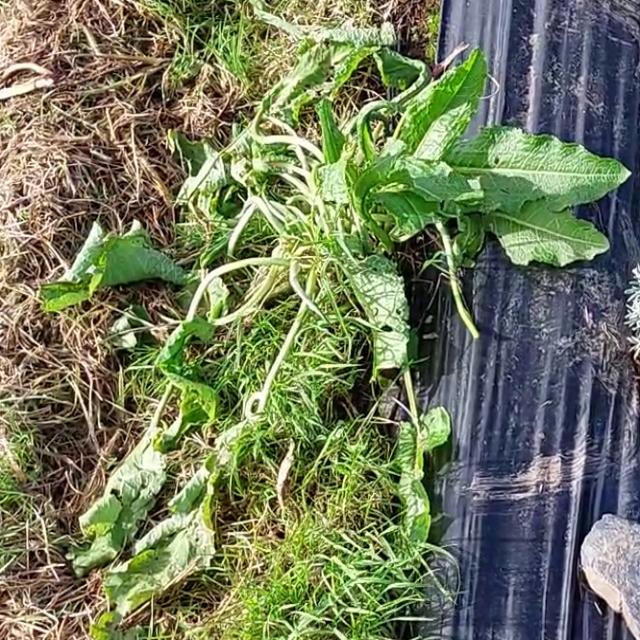organic waste: (42, 35, 618, 617)
